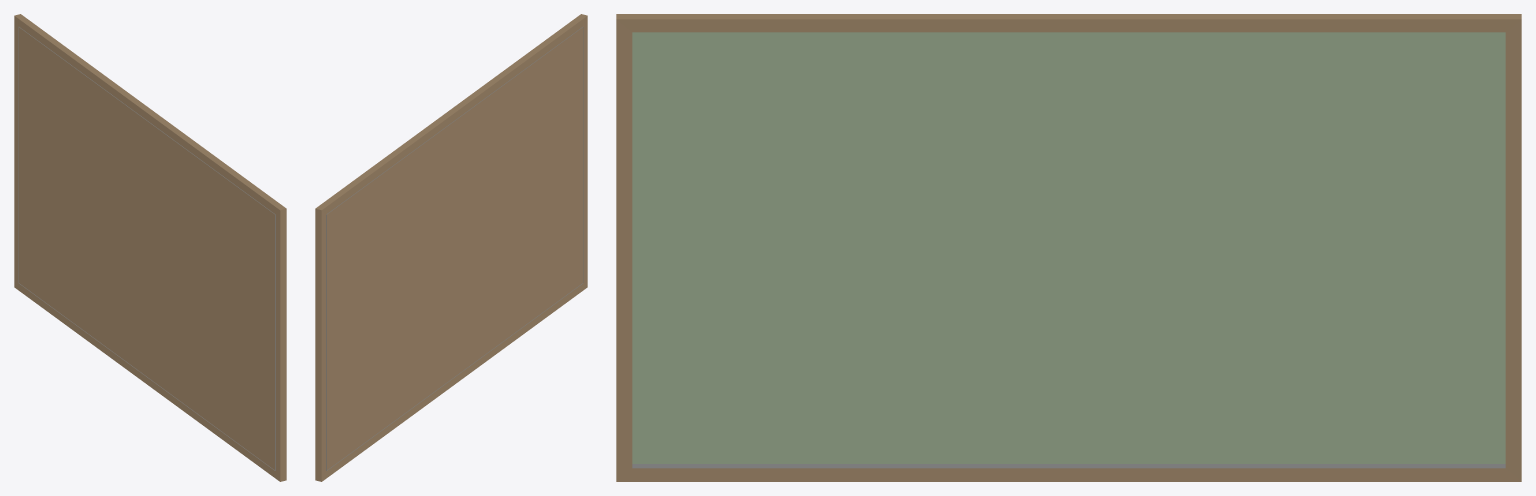
The model's file is board.glb.
The picture shows the model from 3 angles, left to right: view 1: azimuth 30°, elevation 25°; view 2: azimuth 150°, elevation 25°; view 3: azimuth 270°, elevation 25°; orthographic projection. The views are drawn at different scales.
Visible parts, largest first — view 1: pCube32_lambert8_0, pCube32_lambert10_0; view 2: pCube32_lambert8_0, pCube32_lambert10_0; view 3: pCube32_lambert9_0, pCube32_lambert8_0, pCube32_lambert10_0.
Part boxes in pixels (x1,y1,x2,y2): pCube32_lambert8_0: (14,14,286,481); pCube32_lambert10_0: (18,27,275,470); pCube32_lambert8_0: (315,14,587,481); pCube32_lambert10_0: (326,27,583,470); pCube32_lambert9_0: (632,32,1505,463); pCube32_lambert8_0: (616,14,1521,481); pCube32_lambert10_0: (632,464,1505,468).
Bounding box in the file's own units: 0.0286 × 1.06 × 1.88.
